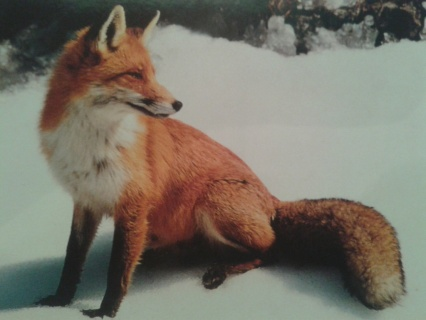Fox: (30, 2, 408, 319)
